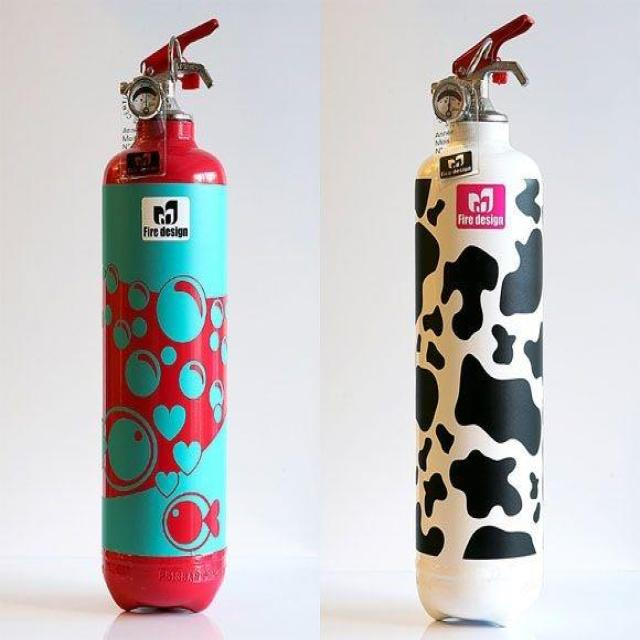fire_extinguisher: (412, 8, 548, 631), (97, 13, 231, 619)
